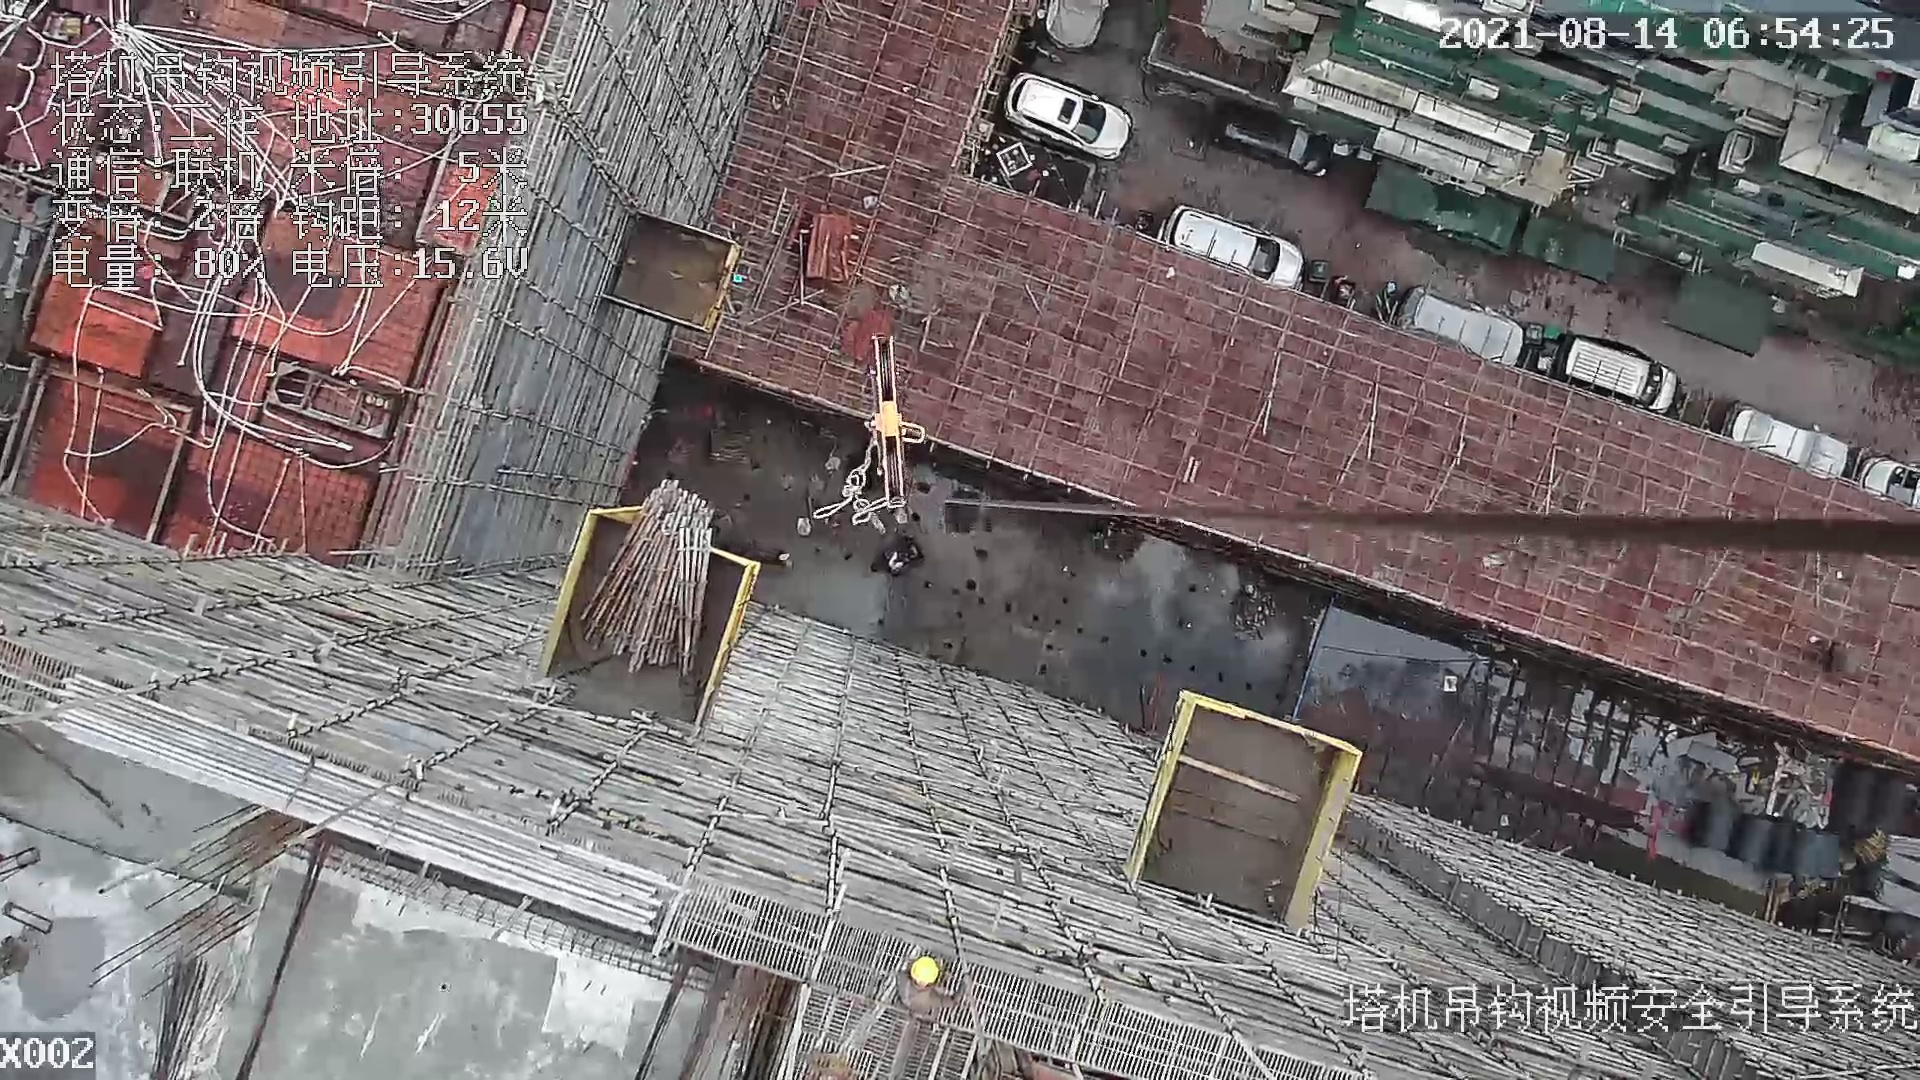helmet: (910, 957, 939, 983)
hook: (867, 333, 935, 512)
person: (886, 954, 981, 1032)
rebar: (42, 676, 659, 939)
scaffold: (578, 479, 715, 677)
